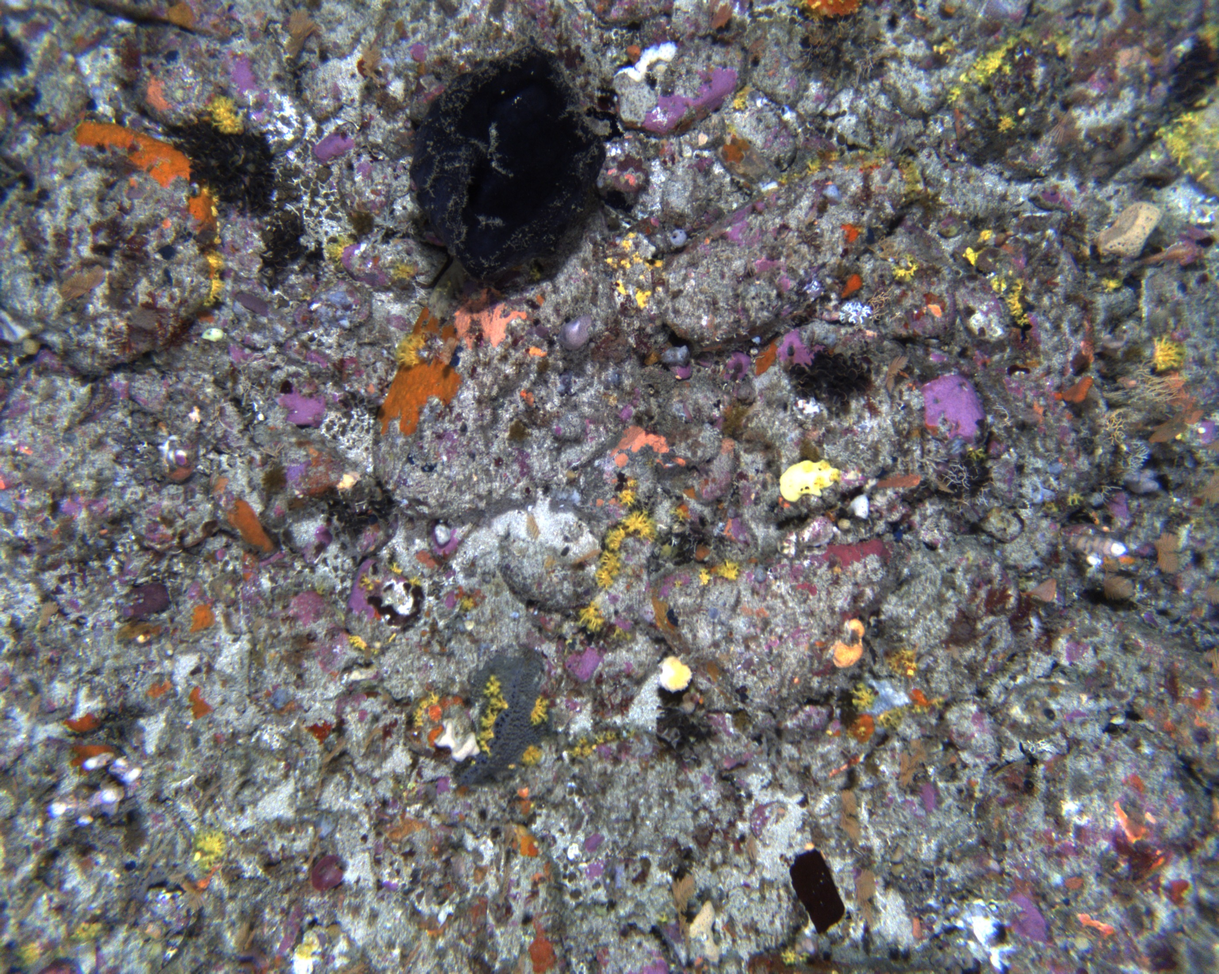Brachionichthyidae: (1131, 239, 1207, 270)
